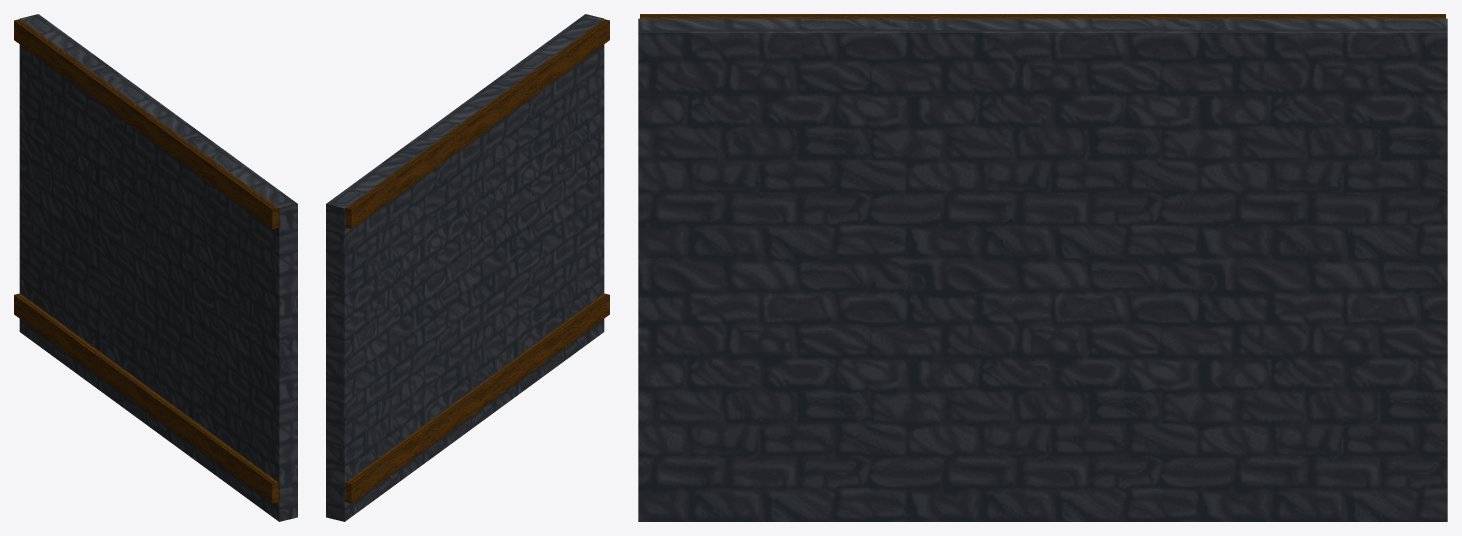
File: Wand 4_8m V1.fbx
3 views of the same model, side by side, from view 1: azimuth 30°, elevation 25°; view 2: azimuth 150°, elevation 25°; view 3: azimuth 270°, elevation 25° (orthographic). The views are drawn at different scales.
Parts seen in each view (by area): view 1: Cube.021; view 2: Cube.021; view 3: Cube.021.
Boxes of the visible parts, x1,y1,x2,y2 form: Cube.021: [14, 14, 297, 521]; Cube.021: [326, 14, 609, 521]; Cube.021: [638, 14, 1447, 521].
Size of the model in its own units: 26.77 by 480 by 320.
1 material, 1 textured.
